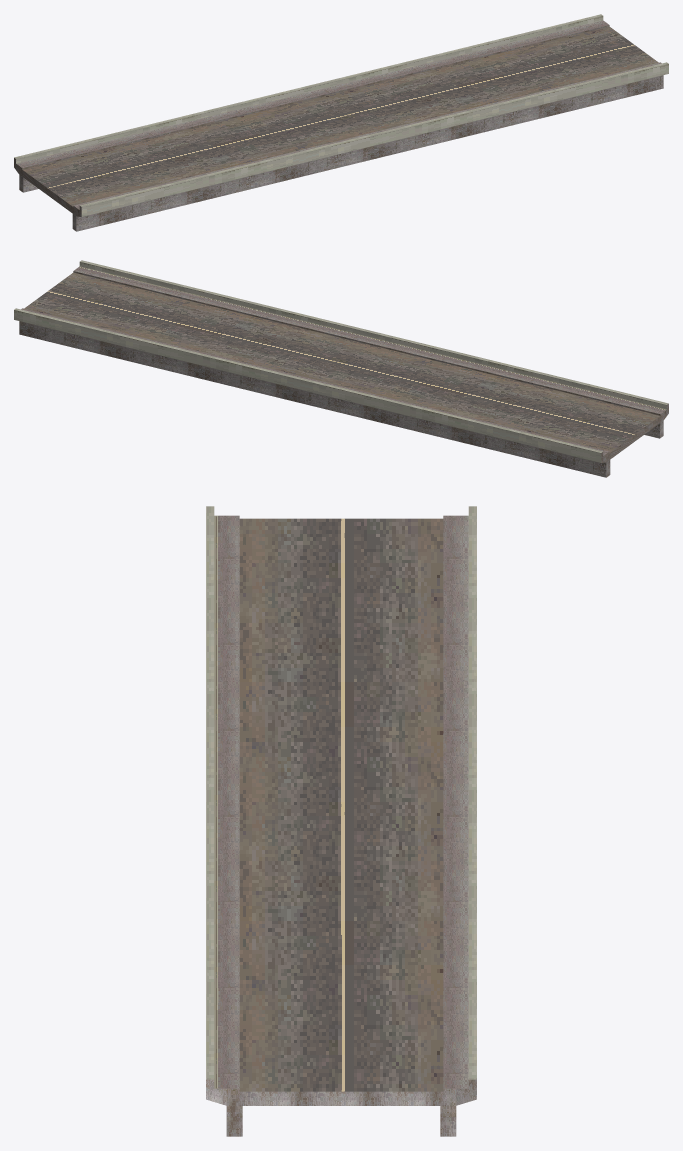
File: cs_roadbridge_lod.obj
3 renders of one model, top to bottom at view 1: azimuth 30°, elevation 25°; view 2: azimuth 150°, elevation 25°; view 3: azimuth 270°, elevation 25°, orthographic. The views are drawn at different scales.
Parts seen in each view (by area): view 1: cs_roadbridge_LOD; view 2: cs_roadbridge_LOD; view 3: cs_roadbridge_LOD.
Part boxes in pixels (<box>): cs_roadbridge_LOD: <box>14,14,668,231</box>; cs_roadbridge_LOD: <box>14,260,668,477</box>; cs_roadbridge_LOD: <box>206,506,476,1136</box>.
Size of the model in its own units: 80 by 3.71 by 16.
4 materials, 4 textured.
